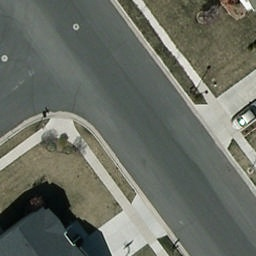car: (230, 98, 256, 130)
